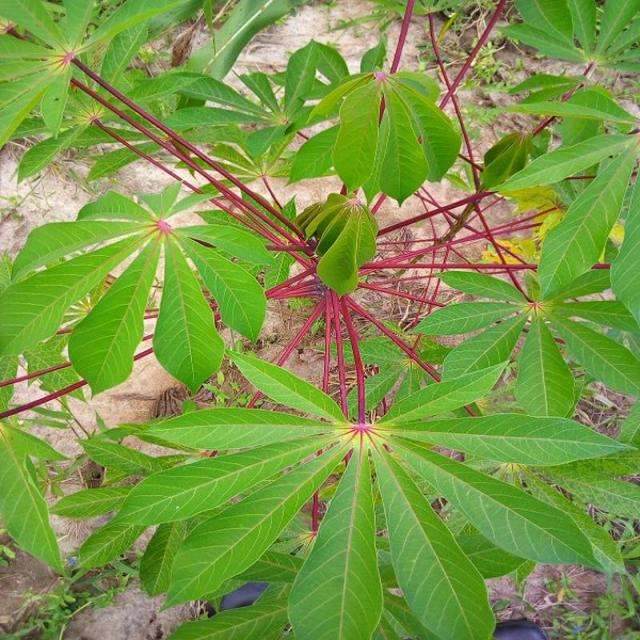cassava leaf: (1, 2, 638, 637), (5, 178, 283, 398)
